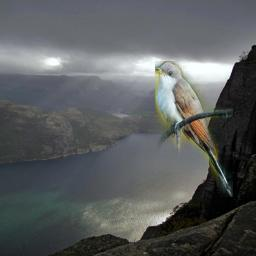Cuckoo: (155, 61, 233, 197)
